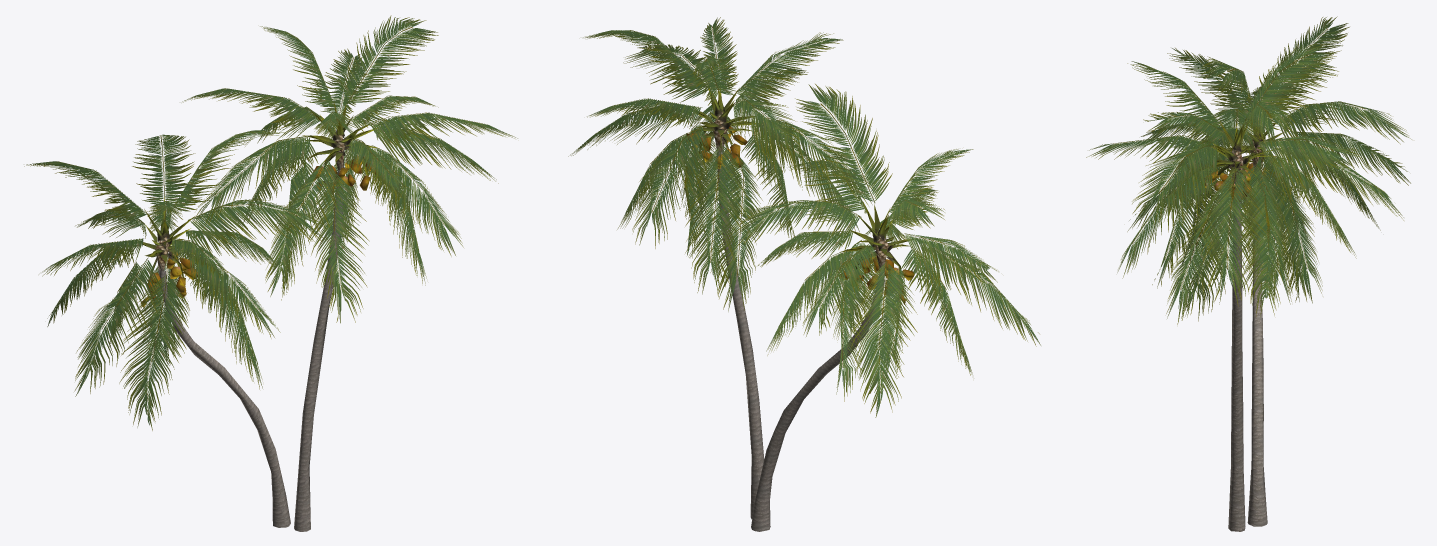
The model's file is dua.glb.
3 renders of one model, left to right at view 1: azimuth 30°, elevation 25°; view 2: azimuth 150°, elevation 25°; view 3: azimuth 270°, elevation 25°, orthographic. The views are drawn at different scales.
Visible parts, largest first — view 1: Tree_2, Tree_0, Tree_3, Tree_4; view 2: Tree_2, Tree_0, Tree_3, Tree_4; view 3: Tree_2, Tree_0, Tree_3, Tree_4.
Boxes of the visible parts, left/top/right/bottom form: Tree_2: left=24, top=15, right=517, bottom=430; Tree_0: left=158, top=170, right=343, bottom=531; Tree_3: left=140, top=101, right=377, bottom=277; Tree_4: left=141, top=153, right=375, bottom=307; Tree_2: left=568, top=17, right=1040, bottom=417; Tree_0: left=716, top=151, right=884, bottom=531; Tree_3: left=688, top=87, right=911, bottom=277; Tree_4: left=686, top=126, right=914, bottom=304; Tree_2: left=1086, top=16, right=1411, bottom=324; Tree_0: left=1228, top=170, right=1267, bottom=531; Tree_3: left=1208, top=111, right=1284, bottom=208; Tree_4: left=1204, top=162, right=1280, bottom=216.
Size of the model in its own units: 1 by 0.9916 by 0.639.
5 materials, 5 textured.
